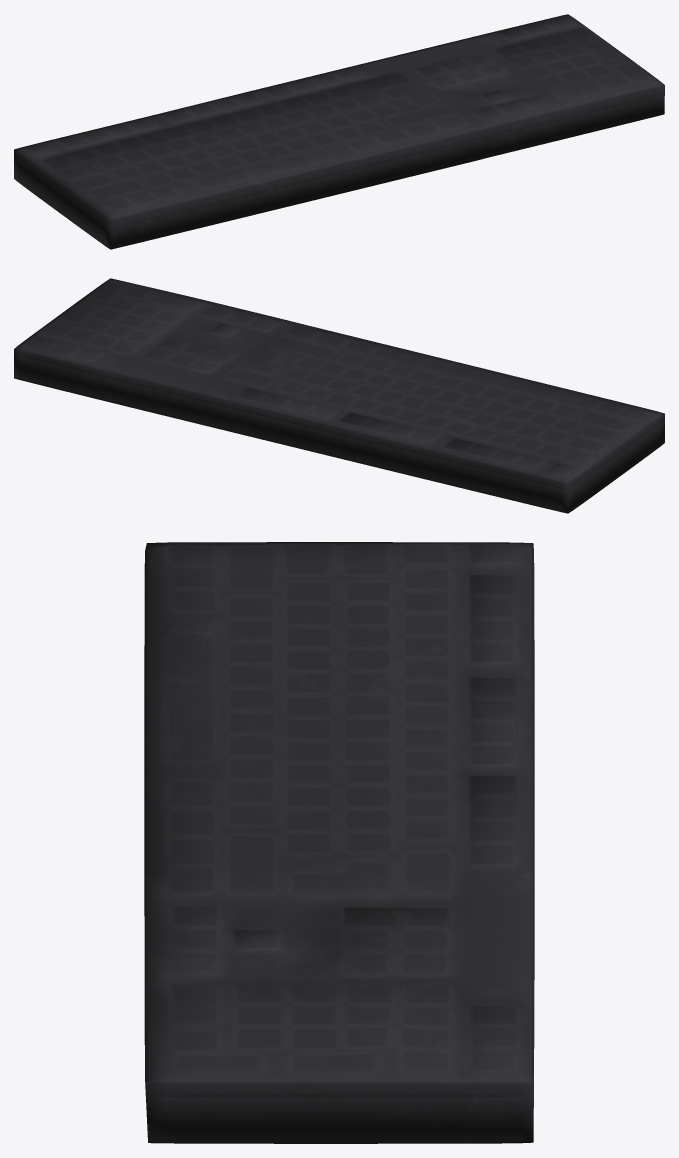
The model's file is Keyboard.fbx.
3 views of the same model, one above another, from view 1: azimuth 30°, elevation 25°; view 2: azimuth 150°, elevation 25°; view 3: azimuth 270°, elevation 25° (orthographic). The views are drawn at different scales.
Parts seen in each view (by area): view 1: R_Keeb.001; view 2: R_Keeb.001; view 3: R_Keeb.001.
Boxes of the visible parts, x1,y1,x2,y2 form: R_Keeb.001: (14, 14, 664, 249); R_Keeb.001: (14, 278, 664, 513); R_Keeb.001: (144, 542, 534, 1143).
Bounding box in the file's own units: 66.22 × 3.85 × 20.15.
1 material, 1 textured.
